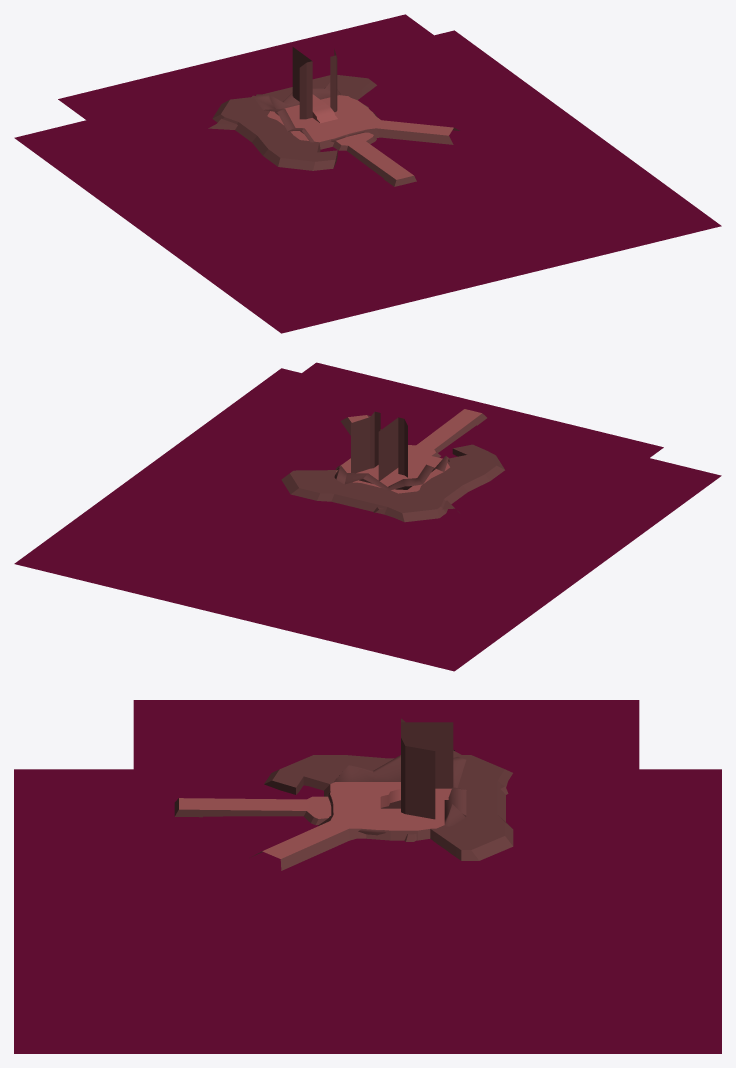
The model's file is BossRooms.fbx.
3 views of the same model, one above another, from view 1: azimuth 30°, elevation 25°; view 2: azimuth 150°, elevation 25°; view 3: azimuth 270°, elevation 25° (orthographic). The views are drawn at different scales.
Visible parts, largest first — view 1: Lago2 (×3), Ground (×3); view 2: Lago2 (×3), Ground (×3); view 3: Lago2 (×3), Ground (×4).
Part boxes in pixels (x1,y1,x2,y2): Lago2 (×3): (14,14,721,333); Ground (×3): (212,47,459,186); Lago2 (×3): (14,362,721,671); Ground (×3): (281,409,504,522); Lago2 (×3): (14,700,721,1053); Ground (×4): (174,718,513,870).
Bounding box in the file's own units: 271 × 71.81 × 285.
